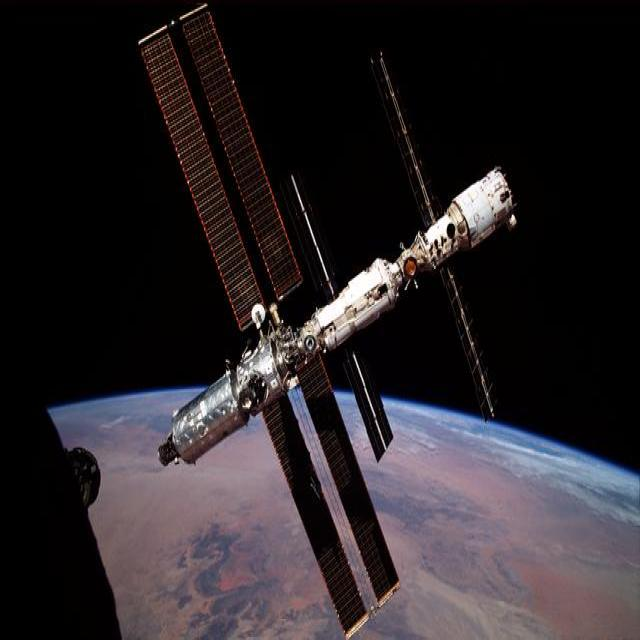medium_debris: (141, 6, 516, 636)
